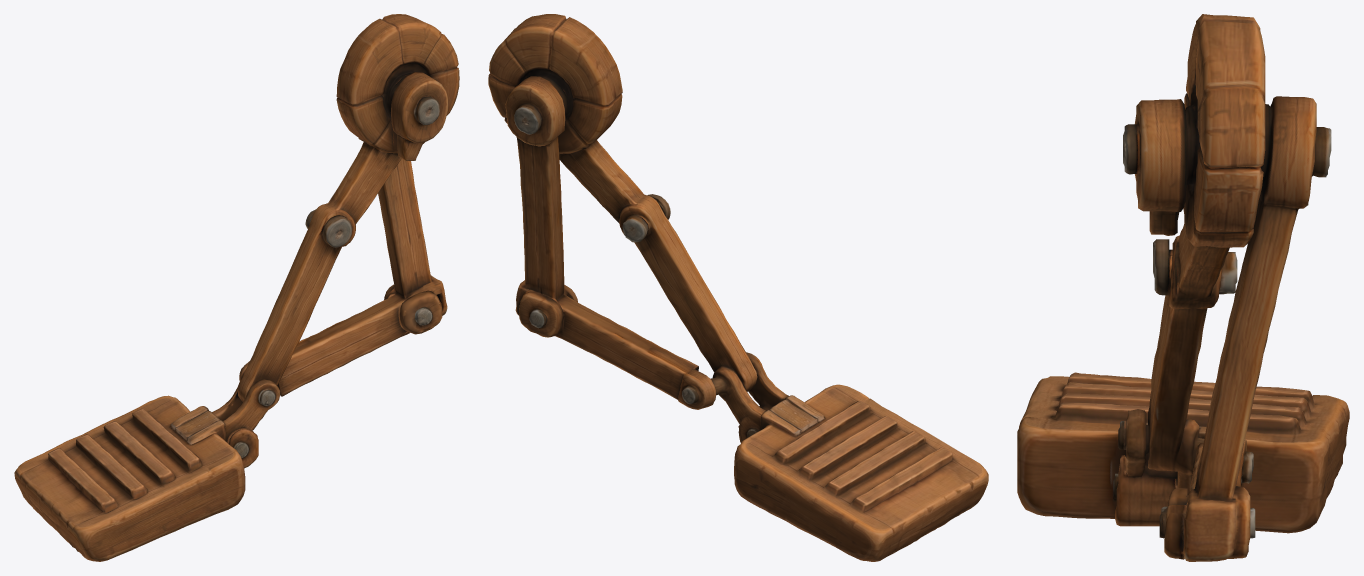
The model's file is tripo_convert_33cc85ce-5ee4-4650-9b18-f033a59469a5.glb.
The picture shows the model from 3 angles, left to right: view 1: azimuth 30°, elevation 25°; view 2: azimuth 150°, elevation 25°; view 3: azimuth 270°, elevation 25°; orthographic projection. The views are drawn at different scales.
Parts seen in each view (by area): view 1: tripo_node_33cc85ce-5ee4-4650-9b18-f033a59469a5; view 2: tripo_node_33cc85ce-5ee4-4650-9b18-f033a59469a5; view 3: tripo_node_33cc85ce-5ee4-4650-9b18-f033a59469a5.
Boxes of the visible parts, x1,y1,x2,y2 form: tripo_node_33cc85ce-5ee4-4650-9b18-f033a59469a5: (14,14,459,561); tripo_node_33cc85ce-5ee4-4650-9b18-f033a59469a5: (488,14,988,561); tripo_node_33cc85ce-5ee4-4650-9b18-f033a59469a5: (1017,14,1349,561).
Bounding box in the file's own units: 0.9791 × 0.9254 × 0.3851.
Materials: 1 (1 with a texture image).
